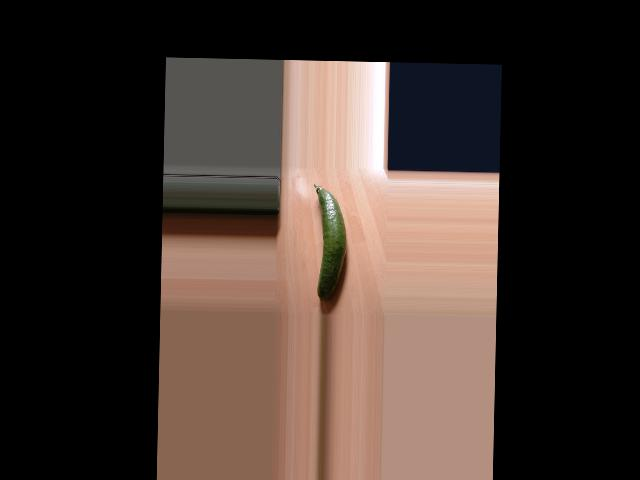cucumber: (311, 183, 348, 302)
